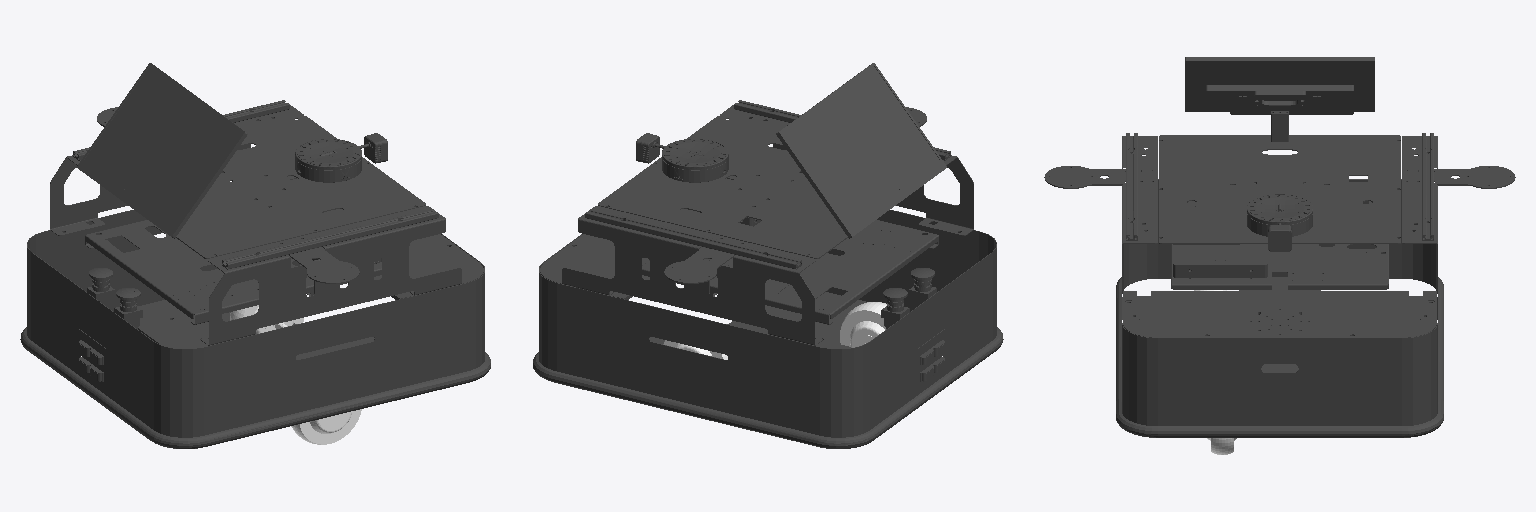
URDF robot description (lucsys_lsv550_4wd):
<?xml version="1.0" encoding="utf-8"?>
<robot name="lucsys_lsv550_4wd">
  <link name="base_link">
    <inertial>
      <origin xyz="-0.00669276364599675 0.000624733508219333 0.041566497261396" rpy="0 0 0" />
      <mass value="0.487326840721694" />
      <inertia ixx="0.000728887748396892" ixy="-1.95581972306923E-06" ixz="1.38866314714851E-05" iyy="0.00137350697386254" iyz="1.27363606215693E-06" izz="0.00198019205992713" />
    </inertial>
    <visual>
      <origin xyz="0 0 0" rpy="0 0 0" />
      <geometry>
        <mesh filename="package://lucsys_lsv550_description/meshes/lsv550_4wd/base_link.STL" />
      </geometry>
      <material name="lucsys_material_0">
        <color rgba="0.349019607843137 0.349019607843137 0.349019607843137 1" />
      </material>
    </visual>
    <collision>
      <origin xyz="0 0 0" rpy="0 0 0" />
      <geometry>
        <mesh filename="package://lucsys_lsv550_description/meshes/lsv550_4wd/base_link.STL" />
      </geometry>
    </collision>
  </link>
  <link name="lf_wheel_link">
    <inertial>
      <origin xyz="5.02039364941309E-09 -0.000959117731609865 -3.67099444911756E-07" rpy="0 0 0" />
      <mass value="0.0432651621364507" />
      <inertia ixx="1.74274249039187E-05" ixy="-1.97181582179252E-09" ixz="2.42780558212303E-09" iyy="2.97234777434777E-05" iyz="3.65016136621756E-11" izz="1.74447678518863E-05" />
    </inertial>
    <visual>
      <origin xyz="0 0 0" rpy="0 0 0" />
      <geometry>
        <mesh filename="package://lucsys_lsv550_description/meshes/lsv550_4wd/lf_wheel_link.STL" />
      </geometry>
      <material name="lucsys_material_1">
        <color rgba="1 1 1 1" />
      </material>
    </visual>
    <collision>
      <origin xyz="0 0 0" rpy="0 0 0" />
      <geometry>
        <mesh filename="package://lucsys_lsv550_description/meshes/lsv550_4wd/lf_wheel_link.STL" />
      </geometry>
    </collision>
  </link>
  <joint name="lf_wheel_joint" type="continuous">
    <origin xyz="0.0759459119540792 0.0945904469516561 0.0167" rpy="0 0 0" />
    <parent link="base_link" />
    <child link="lf_wheel_link" />
    <axis xyz="0 -1 0" />
  </joint>
  <link name="lb_wheel_link">
    <inertial>
      <origin xyz="3.82211208516114E-09 -0.000959117661118294 -3.67368547991853E-07" rpy="0 0 0" />
      <mass value="0.0432651600147461" />
      <inertia ixx="1.74274247813233E-05" ixy="-1.9719222337664E-09" ixz="2.42806509765921E-09" iyy="2.97234762989874E-05" iyz="3.64398550550807E-11" izz="1.74447664850641E-05" />
    </inertial>
    <visual>
      <origin xyz="0 0 0" rpy="0 0 0" />
      <geometry>
        <mesh filename="package://lucsys_lsv550_description/meshes/lsv550_4wd/lb_wheel_link.STL" />
      </geometry>
      <material name="lucsys_material_2">
        <color rgba="1 1 1 1" />
      </material>
    </visual>
    <collision>
      <origin xyz="0 0 0" rpy="0 0 0" />
      <geometry>
        <mesh filename="package://lucsys_lsv550_description/meshes/lsv550_4wd/lb_wheel_link.STL" />
      </geometry>
    </collision>
  </link>
  <joint name="lb_wheel_joint" type="continuous">
    <origin xyz="-0.0816540880459208 0.0945904469516561 0.0167" rpy="0 0 0" />
    <parent link="base_link" />
    <child link="lb_wheel_link" />
    <axis xyz="0 -1 0" />
  </joint>
  <link name="rb_wheel_link">
    <inertial>
      <origin xyz="5.0420245339966E-09 0.000959117833922496 1.41173722285198E-07" rpy="0 0 0" />
      <mass value="0.0432651607064601" />
      <inertia ixx="1.74274246895068E-05" ixy="1.97184259504201E-09" ixz="-2.42795742055245E-09" iyy="2.97234768494393E-05" iyz="3.64472773779085E-11" izz="1.74447671610457E-05" />
    </inertial>
    <visual>
      <origin xyz="0 0 0" rpy="0 0 0" />
      <geometry>
        <mesh filename="package://lucsys_lsv550_description/meshes/lsv550_4wd/rb_wheel_link.STL" />
      </geometry>
      <material name="lucsys_material_3">
        <color rgba="1 1 1 1" />
      </material>
    </visual>
    <collision>
      <origin xyz="0 0 0" rpy="0 0 0" />
      <geometry>
        <mesh filename="package://lucsys_lsv550_description/meshes/lsv550_4wd/rb_wheel_link.STL" />
      </geometry>
    </collision>
  </link>
  <joint name="rb_wheel_joint" type="continuous">
    <origin xyz="-0.0816540880459208 -0.0945635530483439 0.016701" rpy="0 0 0" />
    <parent link="base_link" />
    <child link="rb_wheel_link" />
    <axis xyz="0 1 0" />
  </joint>
  <link name="rf_wheel_link">
    <inertial>
      <origin xyz="5.16426455071661E-09 0.000959117797785097 1.41259390941395E-07" rpy="0 0 0" />
      <mass value="0.0432651606285765" />
      <inertia ixx="1.7427424775695E-05" ixy="1.97182426016104E-09" ixz="-2.42793235422408E-09" iyy="2.97234766918253E-05" iyz="3.64825302983499E-11" izz="1.74447669258113E-05" />
    </inertial>
    <visual>
      <origin xyz="0 0 0" rpy="0 0 0" />
      <geometry>
        <mesh filename="package://lucsys_lsv550_description/meshes/lsv550_4wd/rf_wheel_link.STL" />
      </geometry>
      <material name="lucsys_material_4">
        <color rgba="1 1 1 1" />
      </material>
    </visual>
    <collision>
      <origin xyz="0 0 0" rpy="0 0 0" />
      <geometry>
        <mesh filename="package://lucsys_lsv550_description/meshes/lsv550_4wd/rf_wheel_link.STL" />
      </geometry>
    </collision>
  </link>
  <joint name="rf_wheel_joint" type="continuous">
    <origin xyz="0.0759459119540792 -0.0945635530483439 0.016701" rpy="0 0 0" />
    <parent link="base_link" />
    <child link="rf_wheel_link" />
    <axis xyz="0 1 0" />
  </joint>
  <link name="laser_link">
    <inertial>
      <origin xyz="0.000735465990627265 2.79287294136343E-07 -0.00549379656778801" rpy="0 0 0" />
      <mass value="0.000111381912632097" />
      <inertia ixx="8.09810255937584E-10" ixy="2.48436925682429E-14" ixz="-2.3895509120416E-14" iyy="8.09668177063903E-10" iyz="-2.28917457059598E-15" izz="1.17057115150886E-10" />
    </inertial>
    <visual>
      <origin xyz="0 0 0" rpy="0 0 0" />
      <geometry>
        <mesh filename="package://lucsys_lsv550_description/meshes/lsv550_4wd/laser.STL" />
      </geometry>
      <material name="lucsys_material_5">
        <color rgba="0.376470588235294 0.376470588235294 0.376470588235294 1" />
      </material>
    </visual>
    <collision>
      <origin xyz="0 0 0" rpy="0 0 0" />
      <geometry>
        <mesh filename="package://lucsys_lsv550_description/meshes/lsv550_4wd/laser.STL" />
      </geometry>
    </collision>
  </link>
  <joint name="laser_joint" type="fixed">
    <origin xyz="0.0834767944381039 1.32296970931968E-05 0.09655" rpy="0 0 0" />
    <parent link="base_link" />
    <child link="laser_link" />
    <axis xyz="0 0 0" />
  </joint>
  <link name="camera_link">
    <inertial>
      <origin xyz="-4.5421630741338E-08 -3.22465443201167E-07 -0.0139995104143068" rpy="0 0 0" />
      <mass value="0.0285970337161944" />
      <inertia ixx="2.4906366149771E-05" ixy="1.4146863723594E-09" ixz="-3.44746211515206E-07" iyy="8.10339311583866E-06" iyz="8.74321734787667E-09" izz="1.91138599479044E-05" />
    </inertial>
    <visual>
      <origin xyz="0 0 0" rpy="0 0 0" />
      <geometry>
        <mesh filename="package://lucsys_lsv550_description/meshes/lsv550_4wd/camera_link.STL" />
      </geometry>
      <material name="lucsys_material_6">
        <color rgba="1 1 1 1" />
      </material>
    </visual>
    <collision>
      <origin xyz="0 0 0" rpy="0 0 0" />
      <geometry>
        <mesh filename="package://lucsys_lsv550_description/meshes/lsv550_4wd/camera_link.STL" />
      </geometry>
    </collision>
  </link>
  <joint name="camera_joint" type="fixed">
    <origin xyz="0.00160091195407918 -0.000100553048343928 0.152137" rpy="0 0 0" />
    <parent link="base_link" />
    <child link="camera_link" />
    <axis xyz="0 0 0" />
  </joint>
  <link name="controller_link">
    <inertial>
      <origin xyz="-0.0254318270510493 0.0178325117543412 0.0120915094567595" rpy="0 0 0" />
      <mass value="0.0371650836727923" />
      <inertia ixx="2.75273235225857E-05" ixy="-4.90409215182102E-07" ixz="-8.95610433776923E-08" iyy="1.08853947390836E-05" iyz="3.79053749296713E-07" izz="3.72570985634232E-05" />
    </inertial>
    <visual>
      <origin xyz="0 0 0" rpy="0 0 0" />
      <geometry>
        <mesh filename="package://lucsys_lsv550_description/meshes/lsv550_4wd/controller_link.STL" />
      </geometry>
      <material name="lucsys_material_7">
        <color rgba="1 1 1 1" />
      </material>
    </visual>
    <collision>
      <origin xyz="0 0 0" rpy="0 0 0" />
      <geometry>
        <mesh filename="package://lucsys_lsv550_description/meshes/lsv550_4wd/controller_link.STL" />
      </geometry>
    </collision>
  </link>
  <joint name="controller_joint" type="fixed">
    <origin xyz="-0.0539080491826598 -0.011432266551253 0.1135" rpy="0 0 0" />
    <parent link="base_link" />
    <child link="controller_link" />
    <axis xyz="0 0 0" />
  </joint>
</robot>

--- What the picture shows (computed from the rendered views, not written in the file) ---
3 views of the same robot in one strip: view 1: azimuth 30°, elevation 25°; view 2: azimuth 150°, elevation 25°; view 3: azimuth 270°, elevation 25° (orthographic).
Robot: lucsys_lsv550_4wd — 8 links, 7 joints (4 continuous, 3 fixed); root link base_link; default pose: every joint at zero.
Links seen in each view (by area): view 1: base_link, rf_wheel_link; view 2: base_link, rb_wheel_link; view 3: base_link.
Link boxes in pixels (x1,y1,x2,y2): base_link: (20, 63, 490, 448); rf_wheel_link: (291, 409, 361, 444); base_link: (533, 63, 1003, 448); rb_wheel_link: (840, 302, 886, 347); base_link: (1044, 57, 1515, 437).
Size in the robot's own frame: 0.64 by 0.7764 by 0.6307 metres.
Meshes: 8 distinct files referenced, 4 mesh visuals loaded (4 binary STL); not drawn: 4 (reference not matched to a file when rendering).
